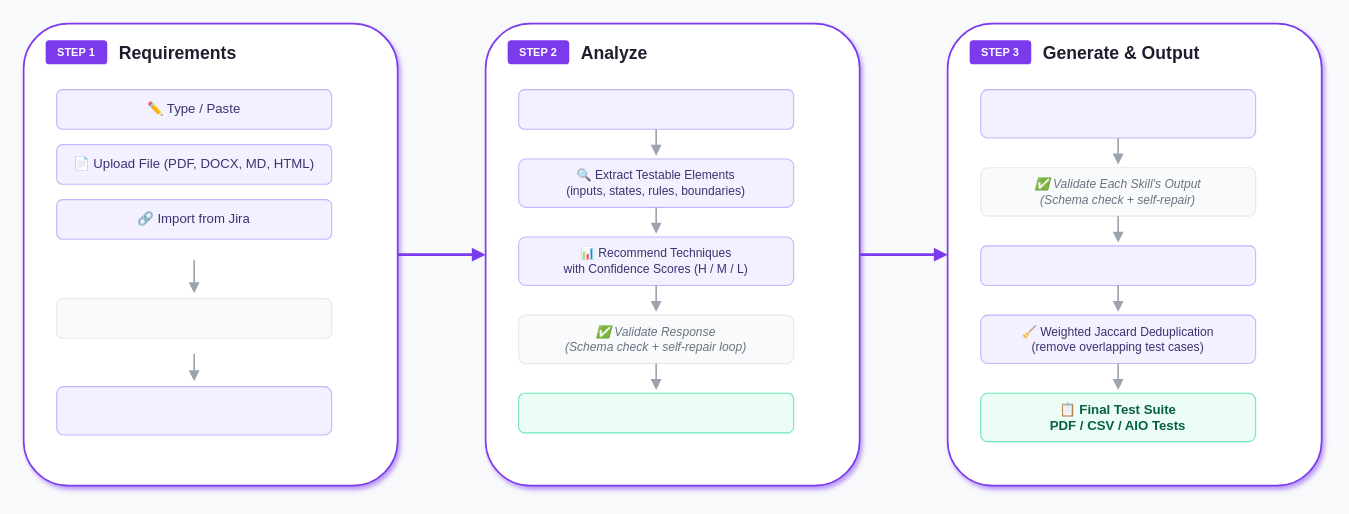
Some shapes in this 1349 by 514 pixel diagram are drawn without their labels. The shapes that lost their labels are listed below. From the top down, each one's centre as x and y in pixels, then its label:
point (656, 109): ❓ Clarify Requirements (Optional)
point (1118, 113): ⚡ Parallel Generation (1 focused AI call per technique)
point (1118, 265): 🔀 Merge All Mini-Suites
point (194, 318): Server Parses Input → Clean Text
point (194, 410): 🤖 Select AI Provider (OpenAI / Anthropic / Gemini)
point (656, 412): 👤 You Review and Toggle Techniques
